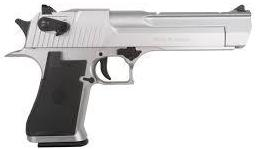gun: (1, 1, 259, 149)
